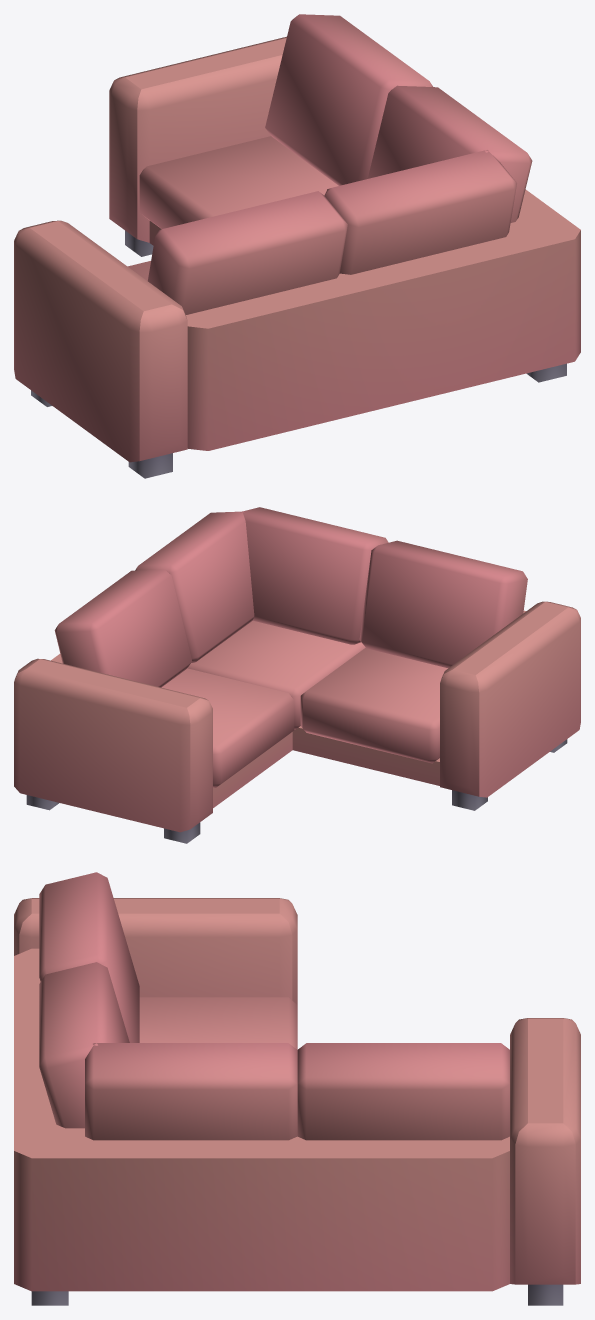
File: amsterdam-sofa-corner-lounge.glb
3 renders of one model, top to bottom at view 1: azimuth 30°, elevation 25°; view 2: azimuth 150°, elevation 25°; view 3: azimuth 270°, elevation 25°, orthographic. The views are drawn at different scales.
Parts seen in each view (by area): view 1: amsterdam-sofa-corner-lounge; view 2: amsterdam-sofa-corner-lounge; view 3: amsterdam-sofa-corner-lounge.
Boxes of the visible parts, bbox=[...] form: amsterdam-sofa-corner-lounge: bbox=[14, 14, 580, 478]; amsterdam-sofa-corner-lounge: bbox=[14, 507, 580, 843]; amsterdam-sofa-corner-lounge: bbox=[14, 872, 580, 1305].
Bounding box in the file's own units: 1.6 × 0.7323 × 1.6.
